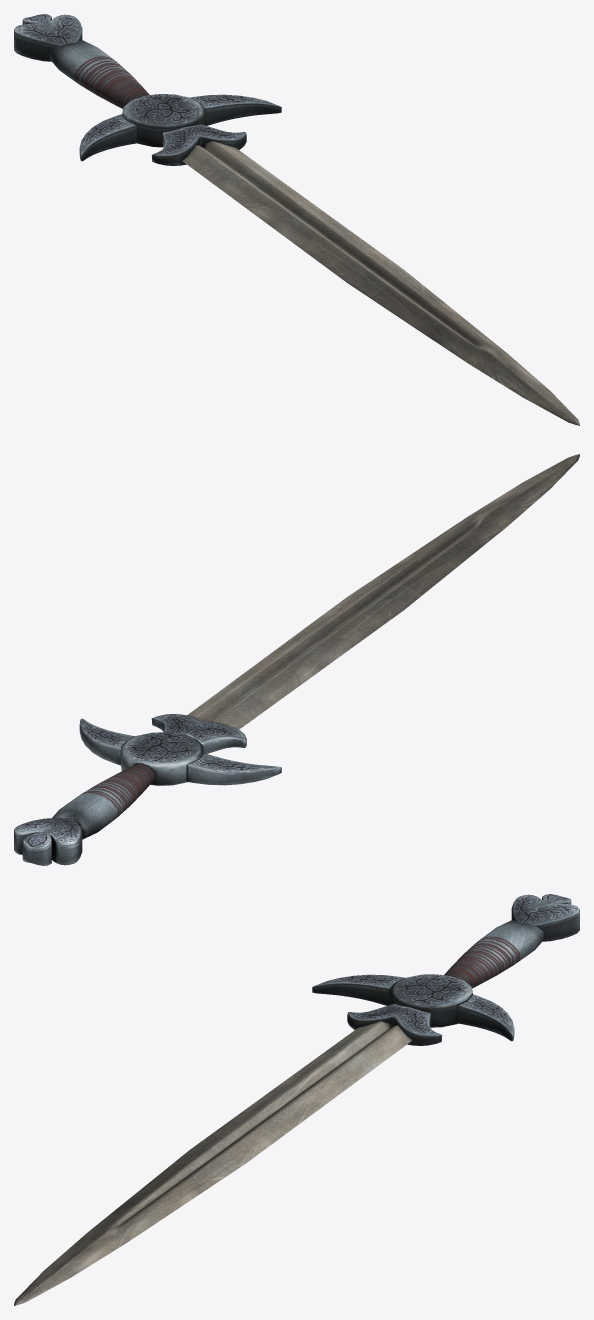
The model's file is 1H_sword_B.FBX.
The picture shows the model from 3 angles, top to bottom: view 1: azimuth 30°, elevation 25°; view 2: azimuth 150°, elevation 25°; view 3: azimuth 330°, elevation 25°; orthographic projection.
Parts seen in each view (by area): view 1: 1H_Sword_B01; view 2: 1H_Sword_B01; view 3: 1H_Sword_B01.
Boxes of the visible parts, box(x1,y1,x2,y2) form: 1H_Sword_B01: box(14, 14, 579, 425); 1H_Sword_B01: box(14, 454, 579, 865); 1H_Sword_B01: box(14, 894, 579, 1305).
Size of the model in its own units: 23.23 by 3.32 by 110.
